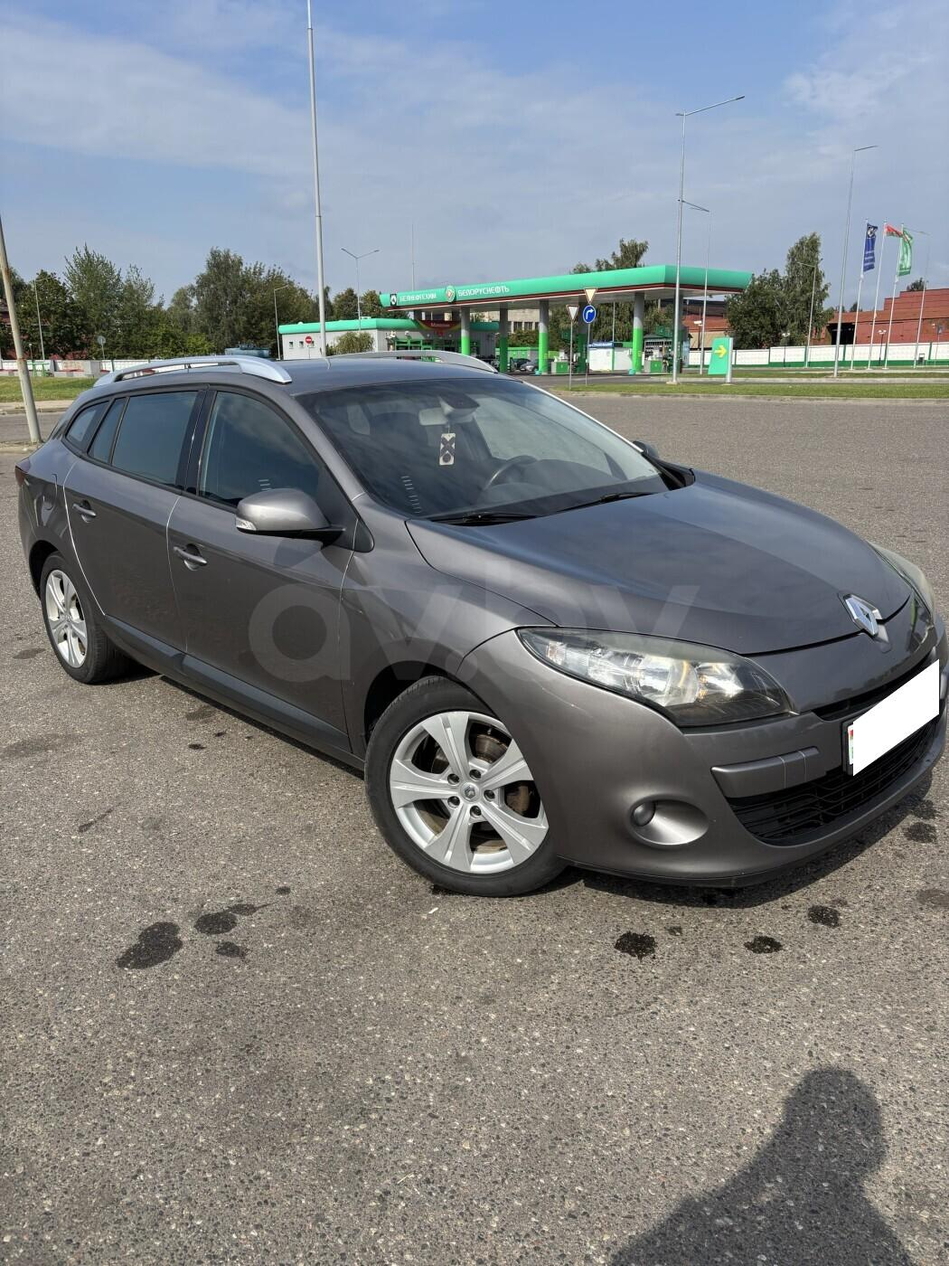Megane_2008-2014: (14, 349, 949, 921)
